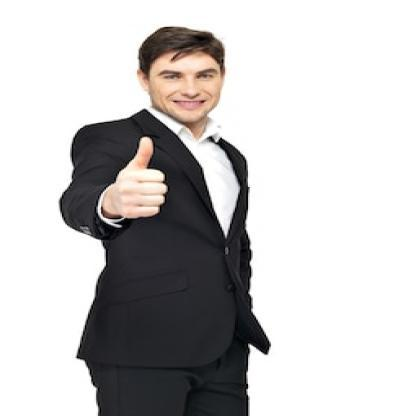thumb_up: (108, 132, 172, 220)
